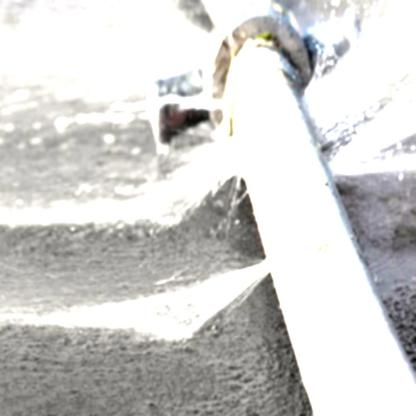burst: (298, 100, 355, 175), (246, 237, 286, 286)
